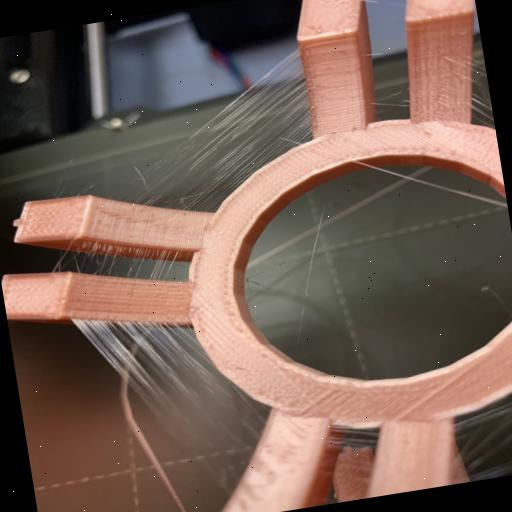stringing: (82, 44, 352, 228), (71, 286, 287, 504), (53, 222, 192, 300)
